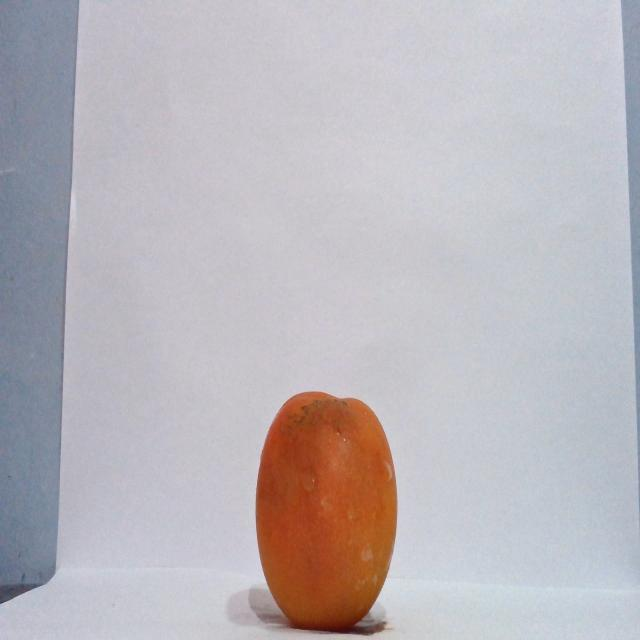Red: (253, 389, 398, 630)
